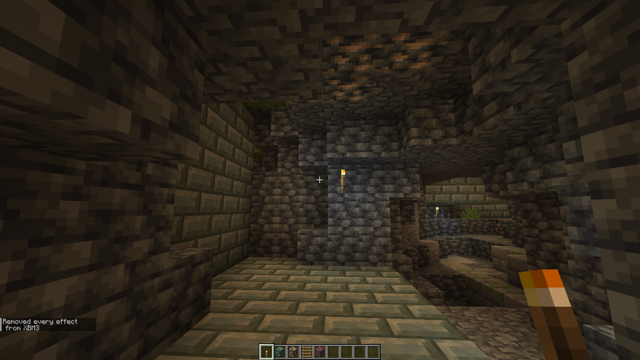iron: (322, 32, 446, 103)
